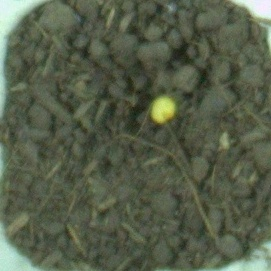chilli seed: (149, 96, 177, 124)
